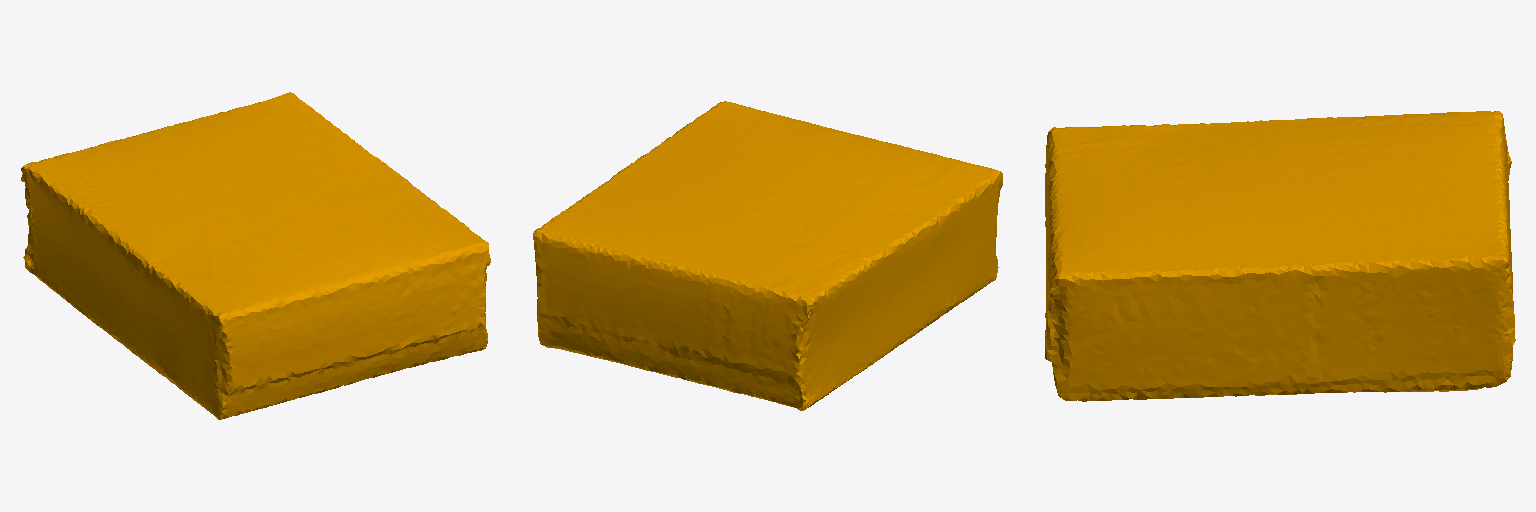
URDF robot description (pudding_box):
<?xml version="1.0"?>
<robot name="pudding_box">
  <link name="pudding_box">
    <contact>
      <friction_anchor/>
      <lateral_friction value="0.6"/>
      <spinning_friction value="0.0005"/>
      <rolling_friction value="0.0005"/>
      <contact_cfm value="0.0"/>
      <contact_erp value="1.0"/>
    </contact>
    <visual>
      <origin xyz="0.0 0.0 0.0"/>
      <geometry>
        <mesh filename="textured_simple.obj" scale="1.0 1.0 1.0"/>
      </geometry>
    </visual>
    <collision>
      <origin xyz="0.0 0.0 0.0"/>
      <geometry>
        <mesh filename="textured_simple.obj" scale="1.0 1.0 1.0"/>
      </geometry>
    </collision>
    <inertial>
      <mass value="0.187"/> 
      <inertia ixx="0.0001" ixy="0.0" ixz="0.0" iyy="0.0001" iyz="0.0" izz="0.0001"/>
    </inertial>
  </link>
</robot>

--- What the picture shows (computed from the rendered views, not written in the file) ---
3 views of the same robot in one strip: view 1: azimuth 30°, elevation 25°; view 2: azimuth 150°, elevation 25°; view 3: azimuth 270°, elevation 25° (orthographic).
Robot: pudding_box — 1 links, 0 joints (none); root link pudding_box; default pose: all joints at 0.
Links seen in each view (by area): view 1: pudding_box; view 2: pudding_box; view 3: pudding_box.
Link boxes in pixels (x1,y1,x2,y2): pudding_box: (21,92,490,419); pudding_box: (533,101,1002,410); pudding_box: (1045,111,1515,401).
Size in the robot's own frame: 0.0905 by 0.1128 by 0.0388 metres.
1 mesh visuals loaded from 1 distinct referenced files (1 OBJ).